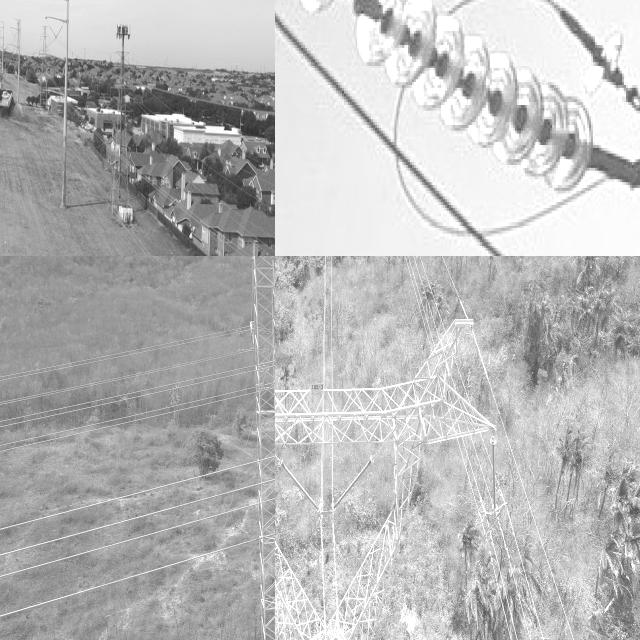杆塔: (275, 302, 511, 640), (102, 14, 139, 210), (37, 21, 50, 112)
正常绝缘子: (275, 0, 619, 224), (276, 451, 325, 521), (330, 455, 375, 512), (488, 432, 500, 515), (250, 259, 255, 327)
绝缘子破损: (348, 0, 375, 19)
